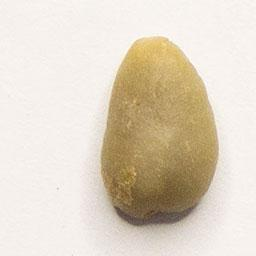longberry: (96, 31, 222, 223)
